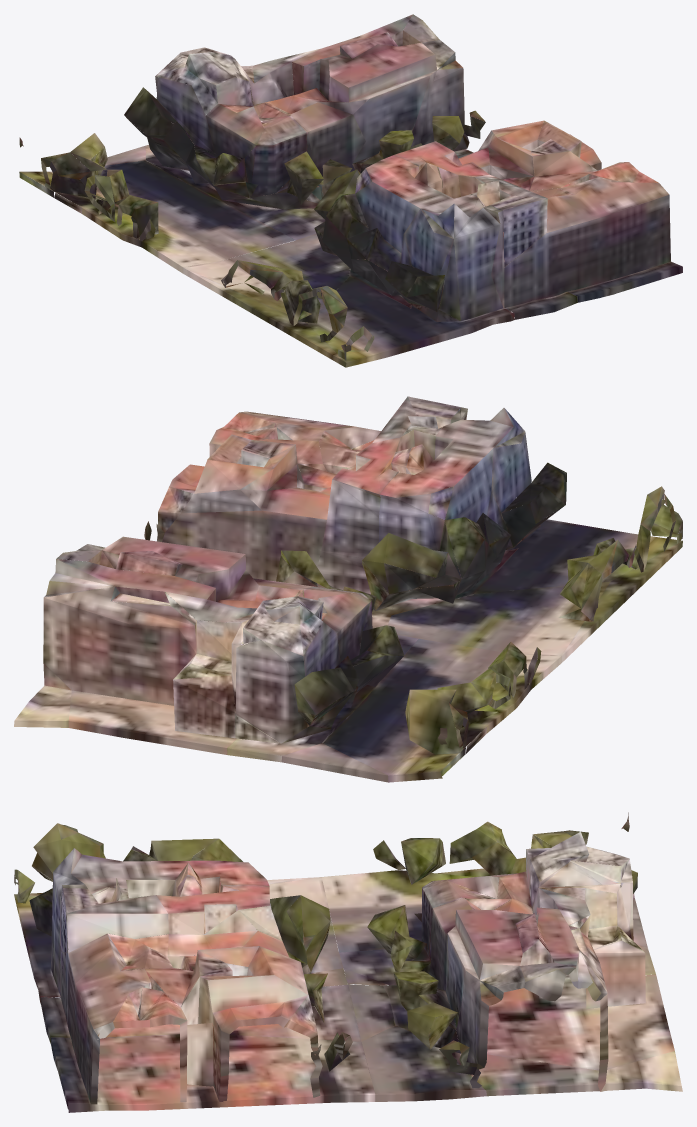
The picture shows the model from 3 angles, top to bottom: view 1: azimuth 30°, elevation 25°; view 2: azimuth 150°, elevation 25°; view 3: azimuth 270°, elevation 25°; orthographic projection. The views are drawn at different scales.
Visible parts, largest first — view 1: Mesh_0; view 2: Mesh_0; view 3: Mesh_0.
Part boxes in pixels (x1,y1,x2,y2): Mesh_0: (19,14,682,367); Mesh_0: (14,396,682,782); Mesh_0: (14,812,682,1112).
Bounding box in the file's own units: 135 × 40.67 × 165.
Materials: 2 (2 with a texture image).
